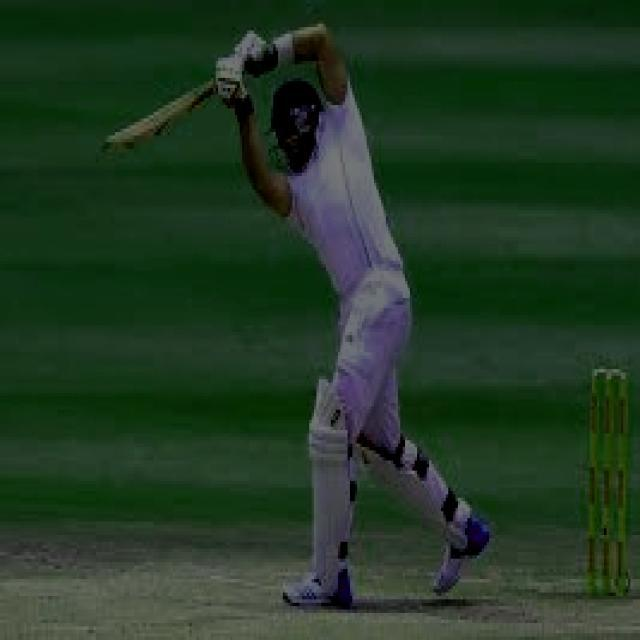bat: (101, 75, 217, 153)
toe: (100, 136, 135, 155)
